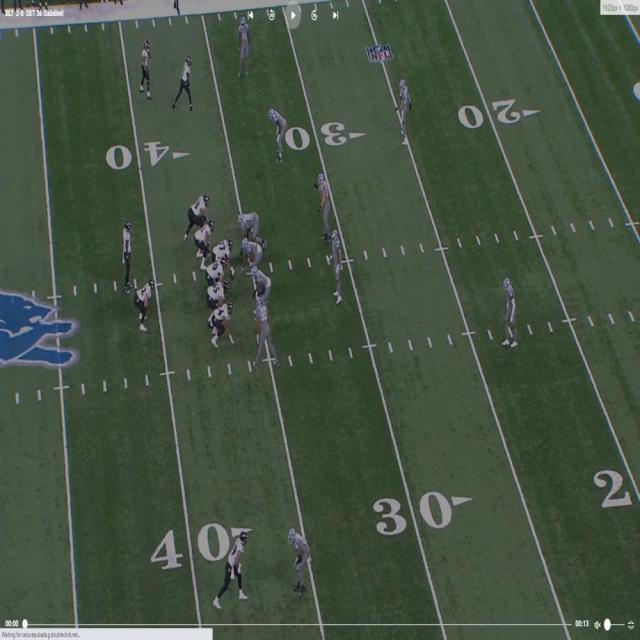center: (215, 240, 235, 275)
db: (289, 524, 309, 593), (502, 272, 516, 345), (399, 76, 412, 137), (237, 13, 249, 72)
lb: (256, 300, 276, 362), (315, 170, 333, 231), (270, 106, 289, 162), (329, 228, 342, 299)
qb: (121, 224, 129, 287)
skill: (220, 528, 252, 604), (209, 303, 235, 346), (177, 60, 194, 110), (135, 282, 151, 330), (140, 36, 152, 92)
